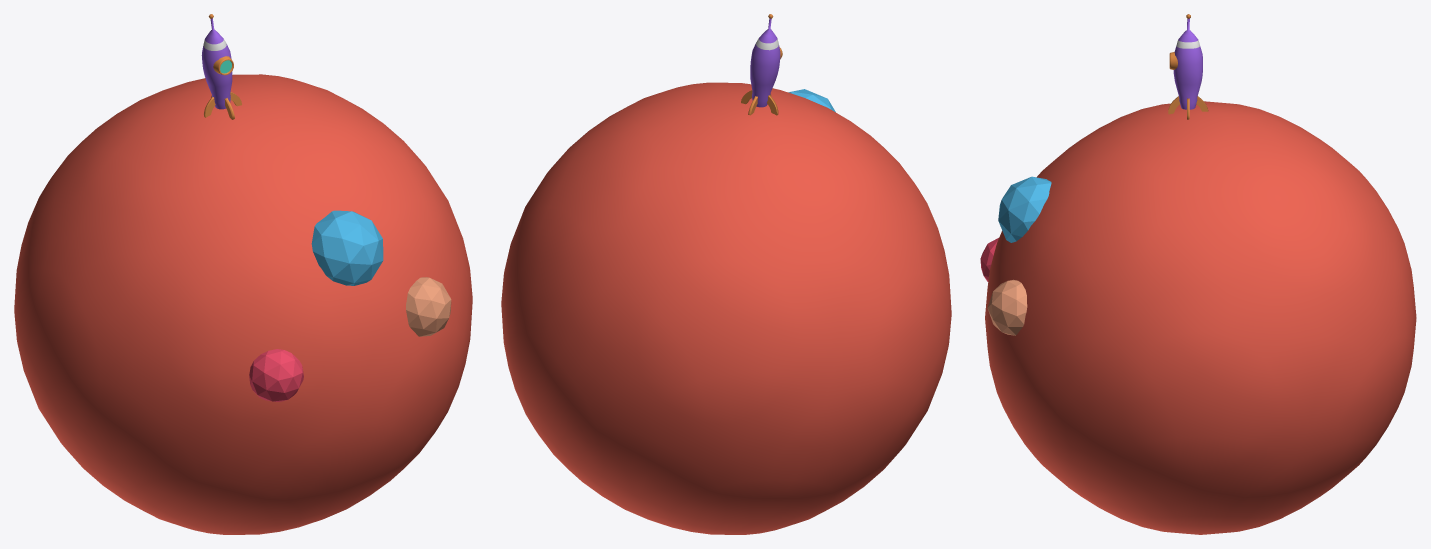
Rendered from mars.glb.
The picture shows the model from 3 angles, left to right: view 1: azimuth 30°, elevation 25°; view 2: azimuth 150°, elevation 25°; view 3: azimuth 270°, elevation 25°; orthographic projection. The views are drawn at different scales.
Parts seen in each view (by area): view 1: MarsSurface, Icosphere.001, Icosphere.002, Rocket, Icosphere; view 2: MarsSurface, Rocket; view 3: MarsSurface, Icosphere.001, Rocket, Icosphere.
Part boxes in pixels (x1,y1,x2,y2): MarsSurface: [14, 74, 472, 534]; Icosphere.001: [311, 210, 383, 285]; Icosphere.002: [249, 349, 303, 401]; Rocket: [201, 14, 241, 119]; Icosphere: [406, 277, 451, 336]; MarsSurface: [501, 82, 951, 534]; Rocket: [741, 14, 782, 115]; MarsSurface: [985, 101, 1416, 534]; Icosphere.001: [998, 176, 1051, 242]; Rocket: [1168, 14, 1208, 119]; Icosphere: [987, 279, 1027, 335].
Size of the model in its own units: 6.21 by 7.59 by 6.23.
